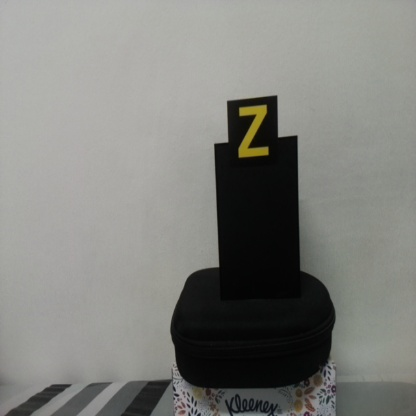id_15: (227, 100, 278, 165)
